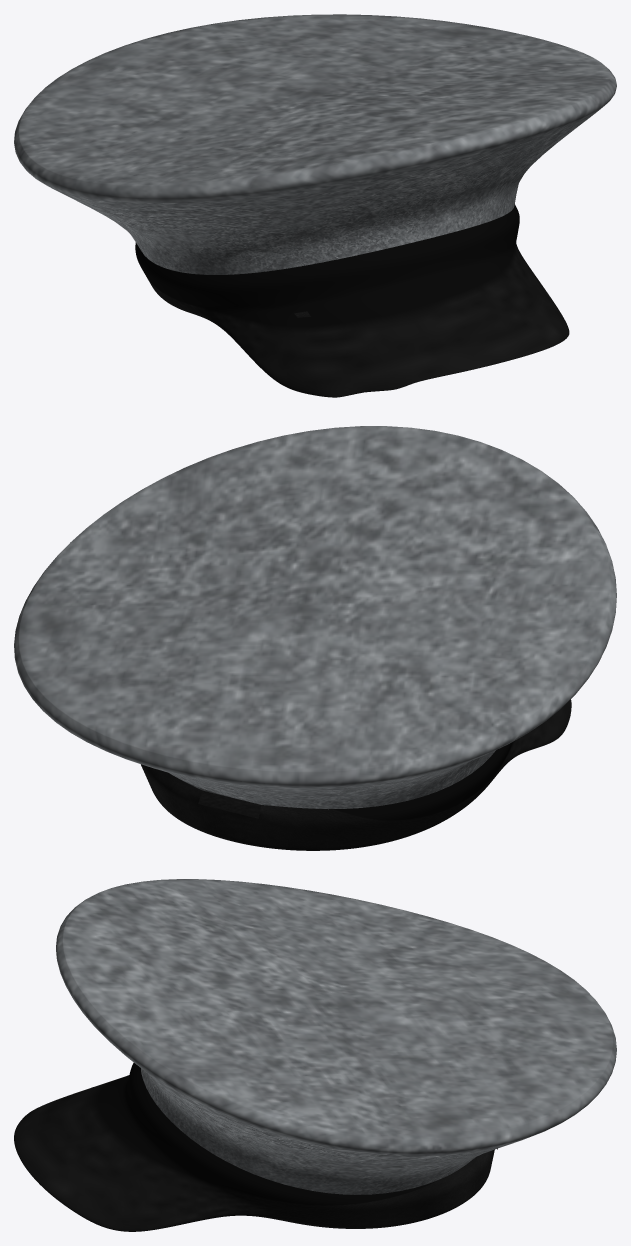
The model's file is hat2.FBX.
3 views of the same model, one above another, from view 1: azimuth 30°, elevation 25°; view 2: azimuth 150°, elevation 25°; view 3: azimuth 270°, elevation 25° (orthographic). The views are drawn at different scales.
Visible parts, largest first — view 1: Object001; view 2: Object001; view 3: Object001.
Boxes of the visible parts, bbox=[...] form: Object001: bbox=[14, 14, 616, 397]; Object001: bbox=[14, 426, 616, 850]; Object001: bbox=[14, 879, 616, 1231].
Bounding box in the file's own units: 117 × 52.04 × 124.
1 material, 1 textured.
